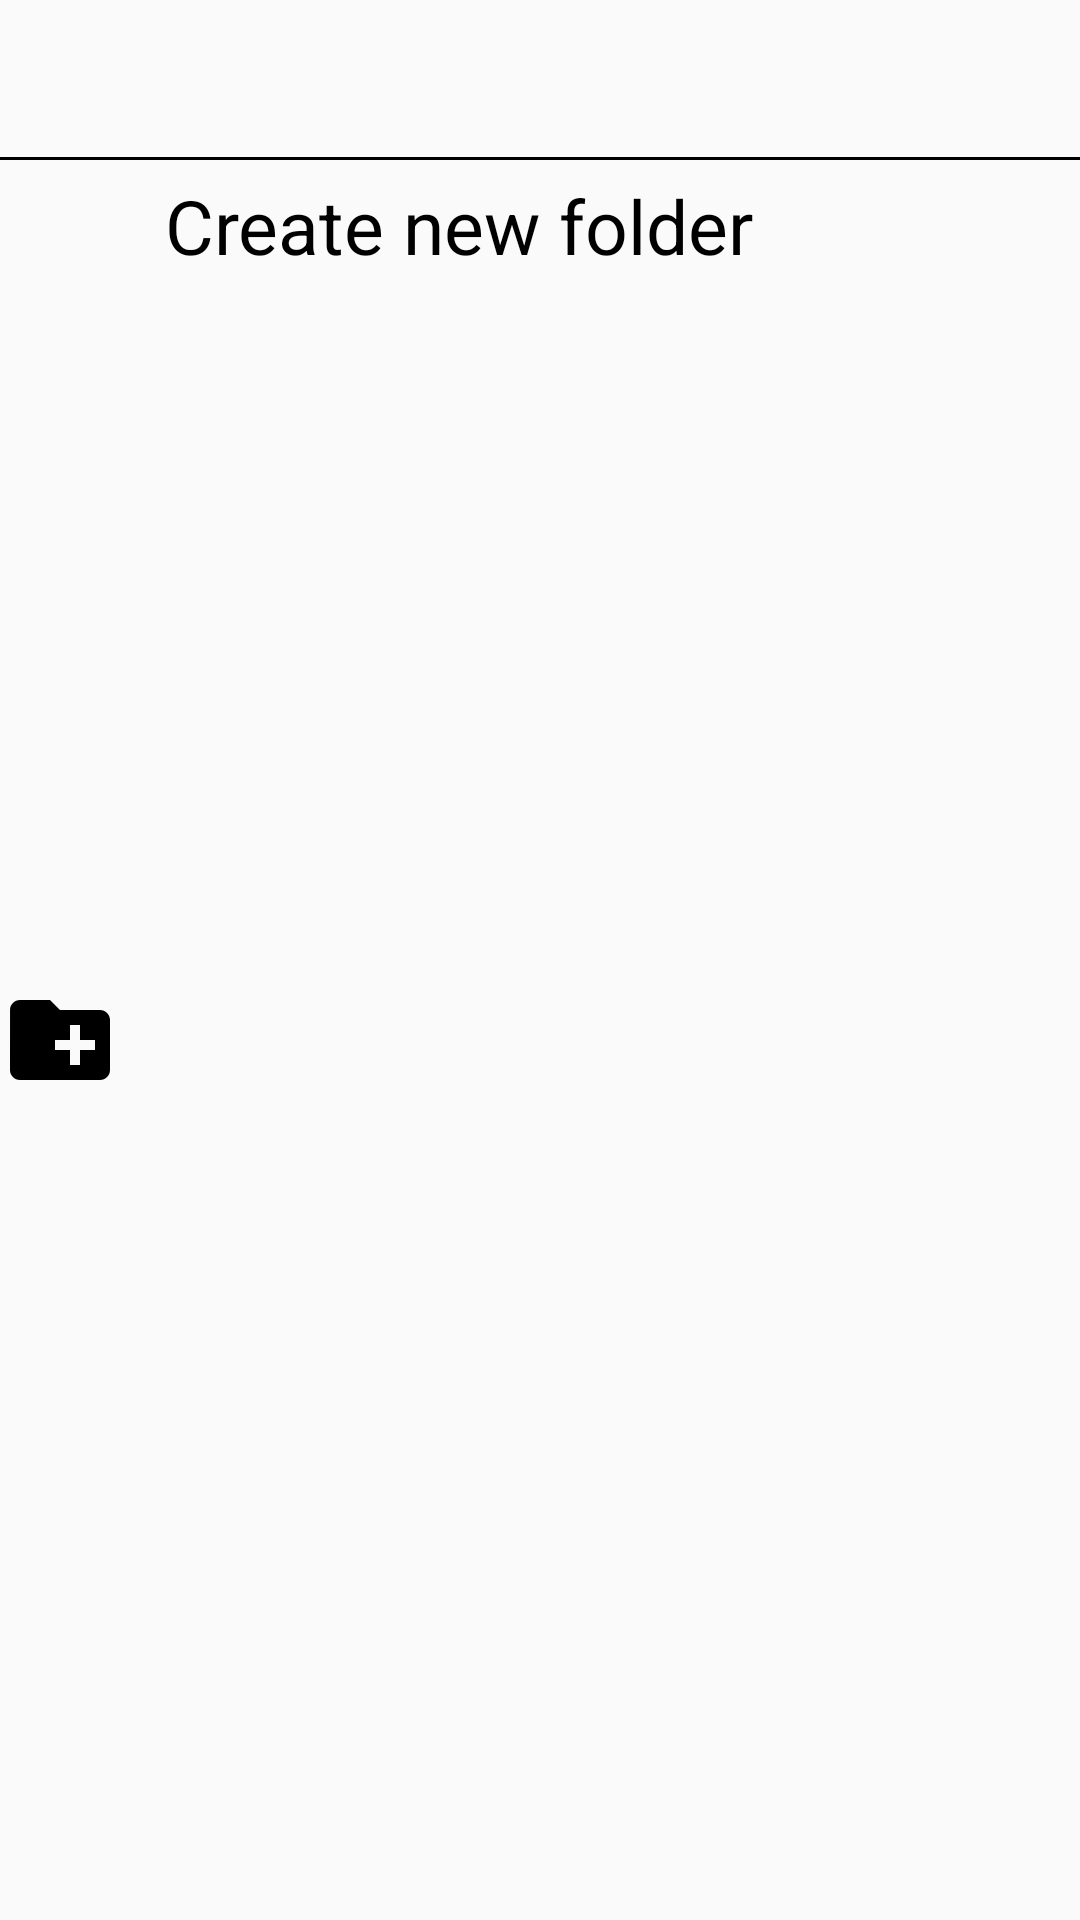

Locate icon controls on the screen. Image size 1080×1920, boxes as (x1,y1,x2,y2).
folder: (10,1000,110,1080)
